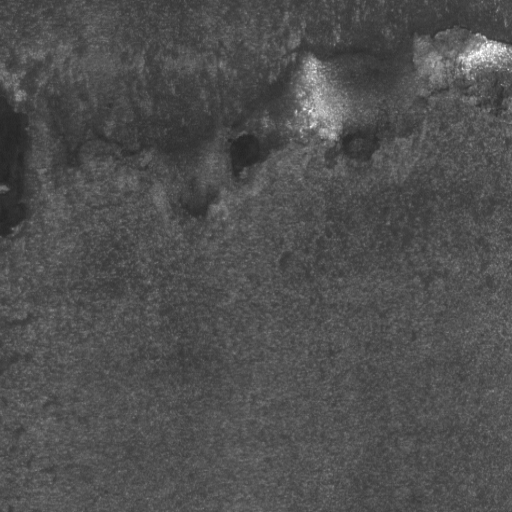aokeng: (1, 77, 32, 245)
qiaopi: (232, 22, 512, 179)
